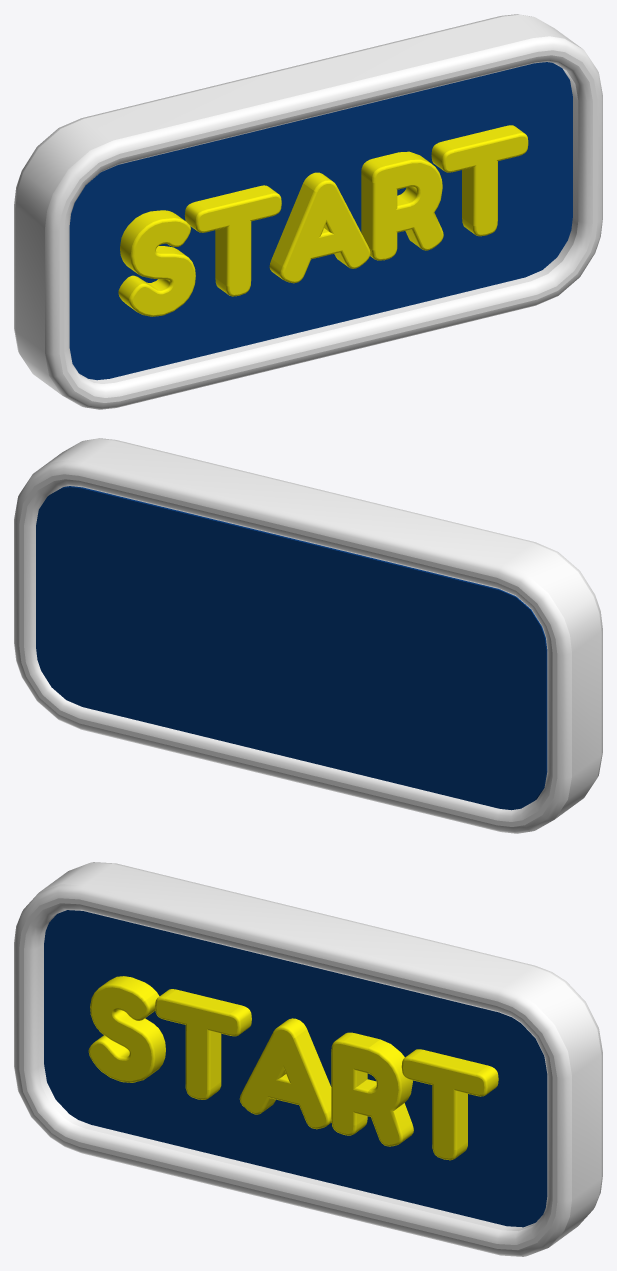
Rendered from start_board.fbx.
3 renders of one model, top to bottom at view 1: azimuth 30°, elevation 25°; view 2: azimuth 150°, elevation 25°; view 3: azimuth 330°, elevation 25°, orthographic.
Visible parts, largest first — view 1: board, stroke, start; view 2: board, stroke; view 3: board, stroke, start.
Part boxes in pixels (<box>): board: <box>69,62,572,380</box>; stroke: <box>14,14,602,409</box>; start: <box>118,125,528,316</box>; board: <box>36,486,547,810</box>; stroke: <box>14,438,602,833</box>; board: <box>44,910,547,1227</box>; stroke: <box>14,862,602,1256</box>; start: <box>88,976,498,1160</box>.
Bounding box in the file's own units: 240 × 110 × 31.
